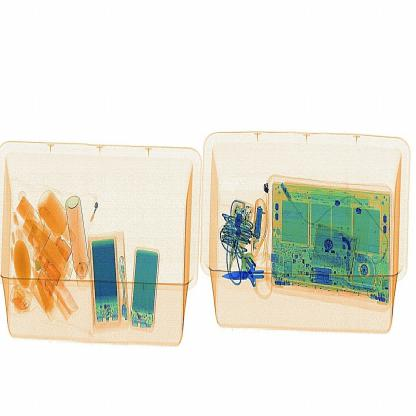gun: (220, 248, 286, 302)
